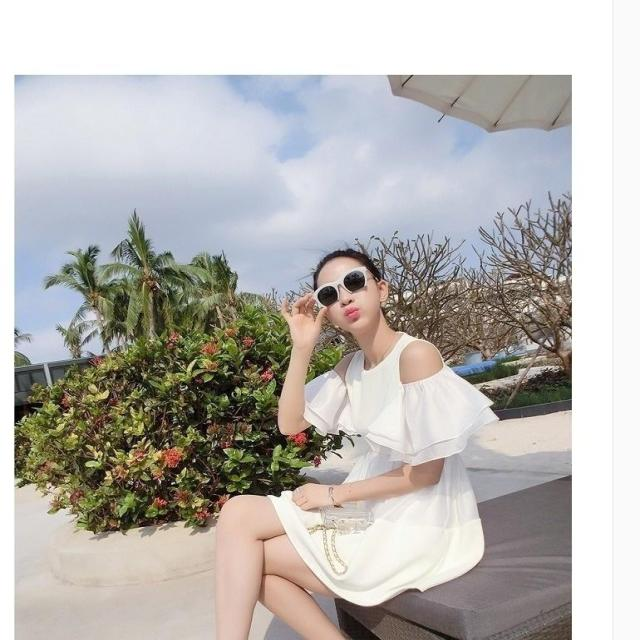short sleeve dress: (268, 332, 499, 608)
